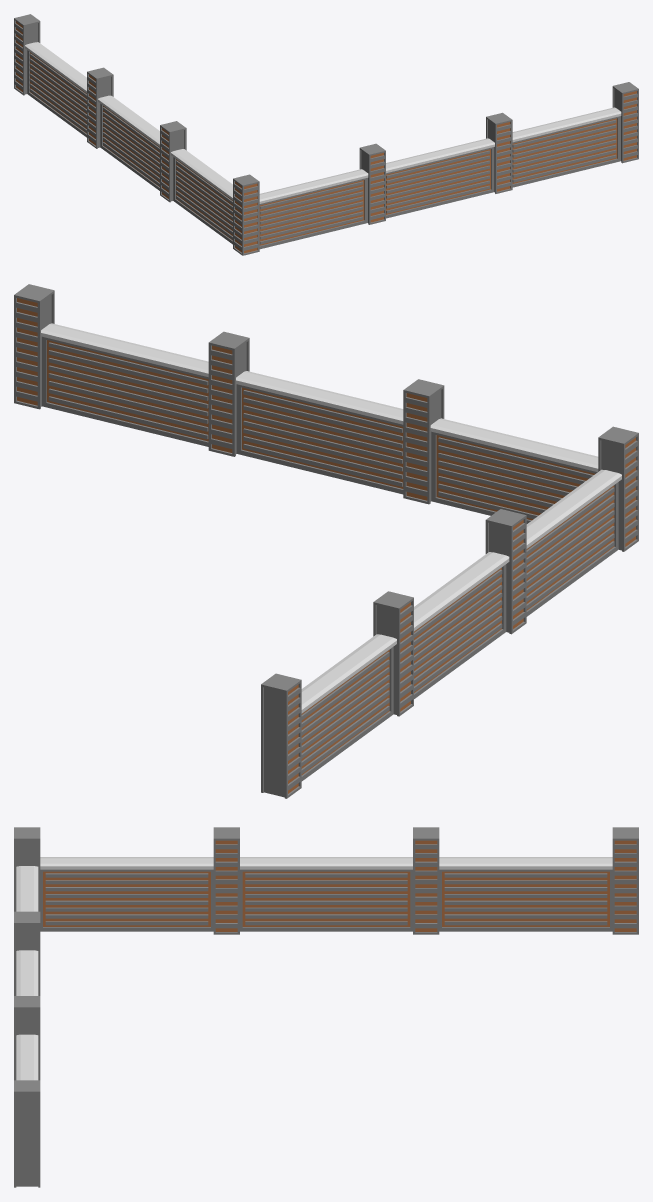
File: Outside wall.fbx
The picture shows the model from 3 angles, top to bottom: view 1: azimuth 30°, elevation 25°; view 2: azimuth 150°, elevation 25°; view 3: azimuth 270°, elevation 25°; orthographic projection. The views are drawn at different scales.
Parts seen in each view (by area): view 1: Box019; view 2: Box019; view 3: Box019.
Part boxes in pixels (<box>): Box019: <box>14,14,638,255</box>; Box019: <box>14,284,638,798</box>; Box019: <box>14,827,638,1187</box>.
Bounding box in the file's own units: 708 × 120 × 708.
